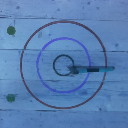Axe Tip: (68, 67, 79, 69)
